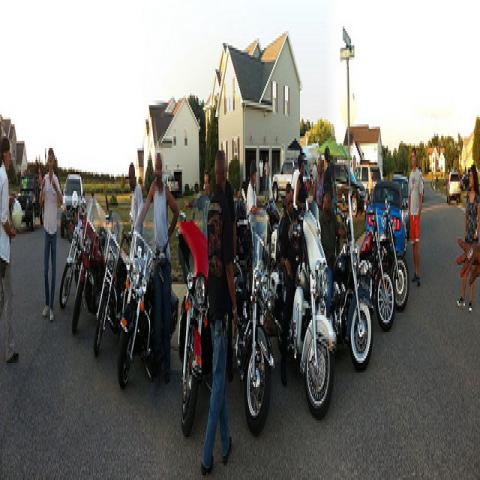car: (366, 182, 408, 254), (334, 163, 366, 217), (60, 172, 84, 238), (17, 174, 44, 230), (272, 159, 298, 204), (392, 175, 410, 238), (354, 164, 380, 192), (446, 167, 462, 202), (460, 172, 470, 192)
motorcycle: (270, 206, 337, 419), (229, 200, 276, 437), (118, 230, 178, 389), (174, 216, 211, 436), (331, 189, 375, 371), (93, 193, 131, 356), (71, 215, 107, 338), (359, 223, 395, 332), (378, 200, 410, 313), (59, 196, 87, 310)
